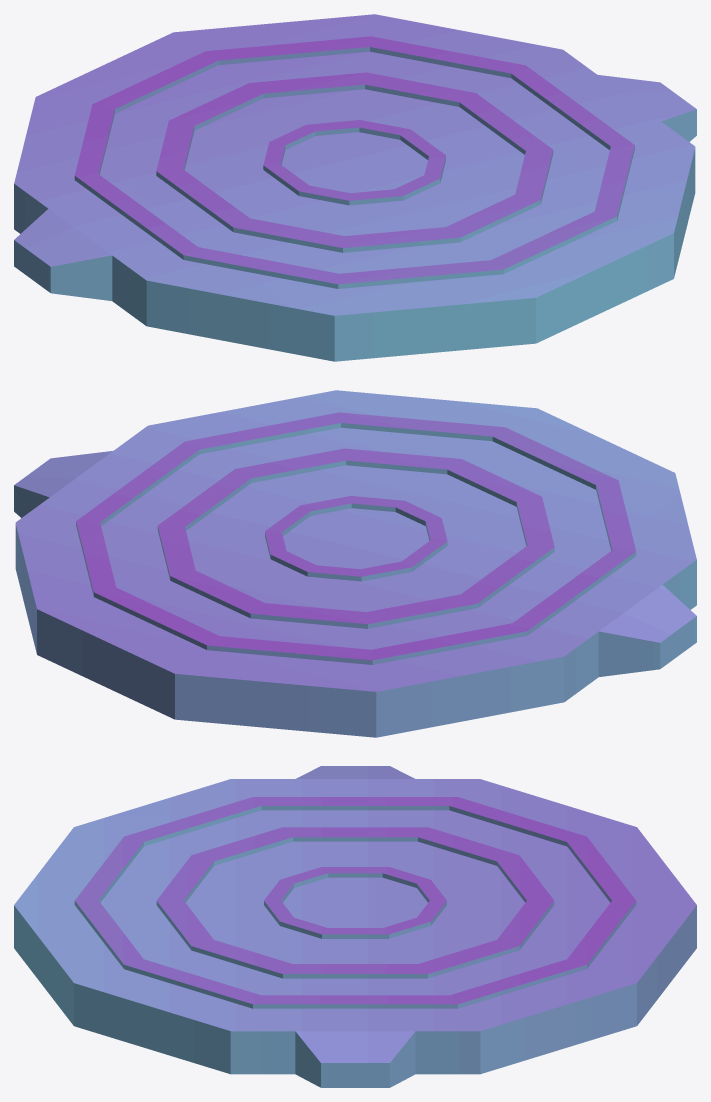
Rendered from manhole001.obj.
The picture shows the model from 3 angles, top to bottom: view 1: azimuth 30°, elevation 25°; view 2: azimuth 150°, elevation 25°; view 3: azimuth 270°, elevation 25°; orthographic projection. The views are drawn at different scales.
Parts seen in each view (by area): view 1: Manhole.001; view 2: Manhole.001; view 3: Manhole.001.
Part boxes in pixels (left/top/right/bottom): Manhole.001: left=14, top=14, right=696, bottom=361; Manhole.001: left=14, top=390, right=696, bottom=737; Manhole.001: left=14, top=766, right=696, bottom=1087.
Size of the model in its own units: 3.39 by 0.2536 by 3.3.
1 material, 1 textured.
